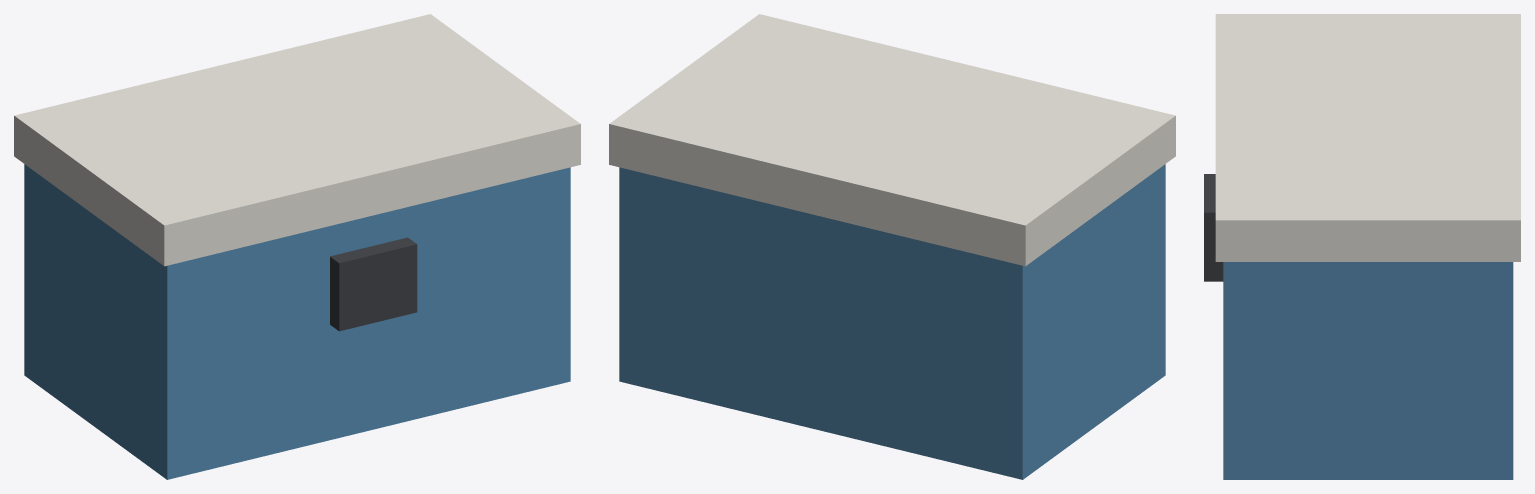
File: cooler.glb
3 views of the same model, side by side, from view 1: azimuth 30°, elevation 25°; view 2: azimuth 150°, elevation 25°; view 3: azimuth 270°, elevation 25° (orthographic).
Visible parts, largest first — view 1: cooler; view 2: cooler; view 3: cooler.
Boxes of the visible parts, left/top/right/bottom form: cooler: left=14, top=14, right=580, bottom=479; cooler: left=609, top=14, right=1175, bottom=479; cooler: left=1204, top=14, right=1520, bottom=479.
Bounding box in the file's own units: 0.64 × 0.38 × 0.415.
